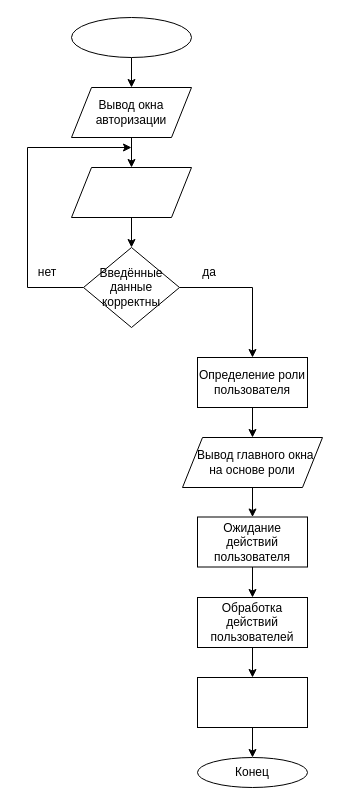
The diagram is 340 pixels wide and 805 high, and some of its shapes have lost their labels. Each missing label, with the centre of its shape:
Ввод логина и пароля: (131,192)
Выход из системы: (252,702)
Начало: (131,37)
